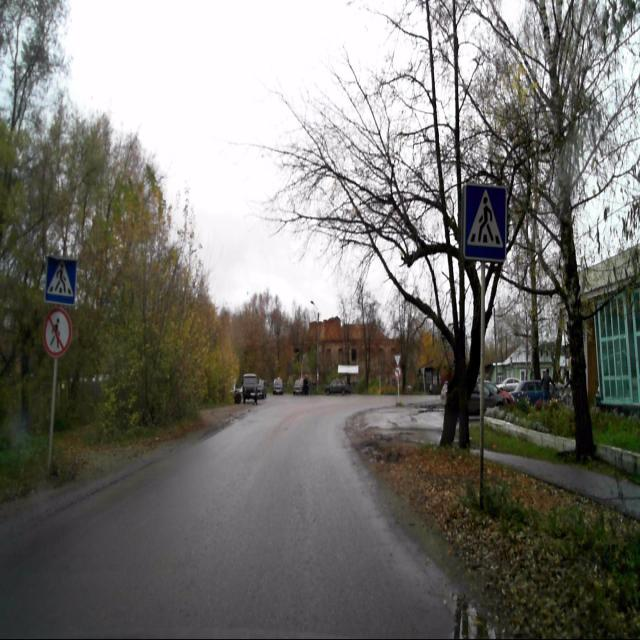road sign: (464, 183, 507, 261), (44, 256, 77, 306)
